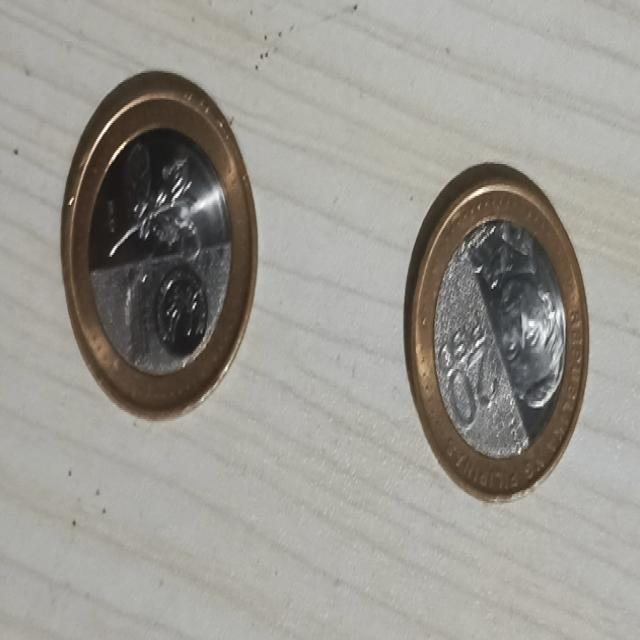20_peso: (62, 73, 256, 414), (406, 164, 587, 499)
